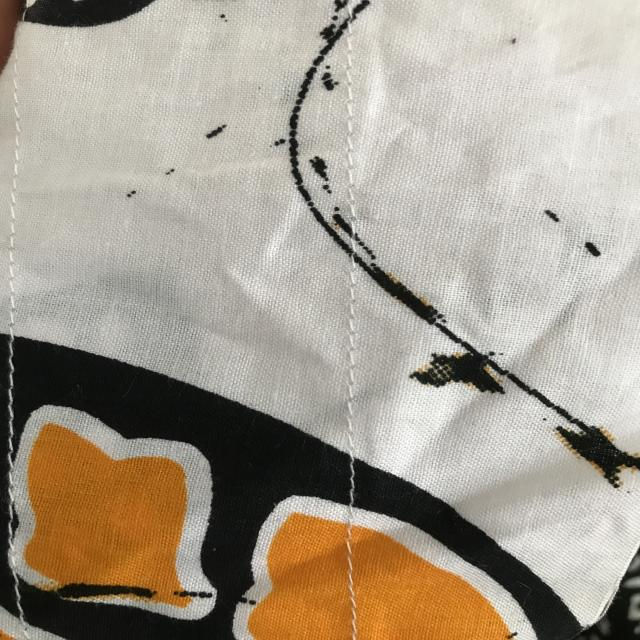good: (333, 307, 372, 412)
